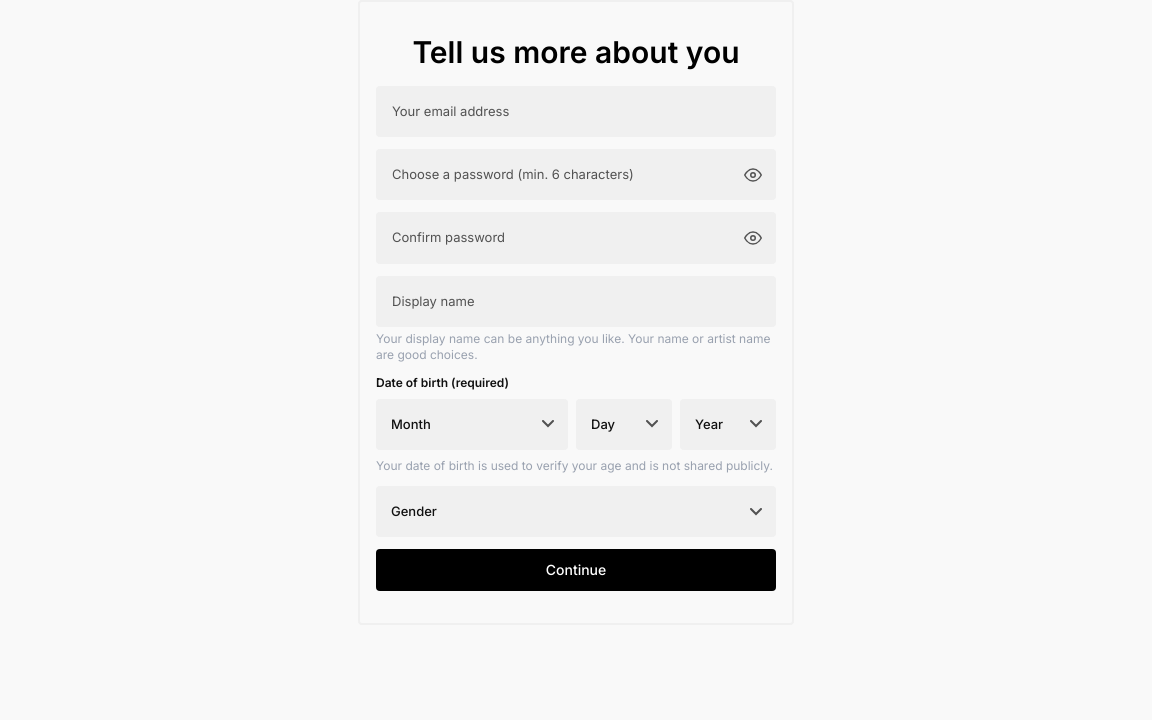
Test case: RegisterationForm › shows email confirmation overlay after successful submit
Type "user@example.com" into the field named "email" at point(576, 112), box [376,86,776,137]
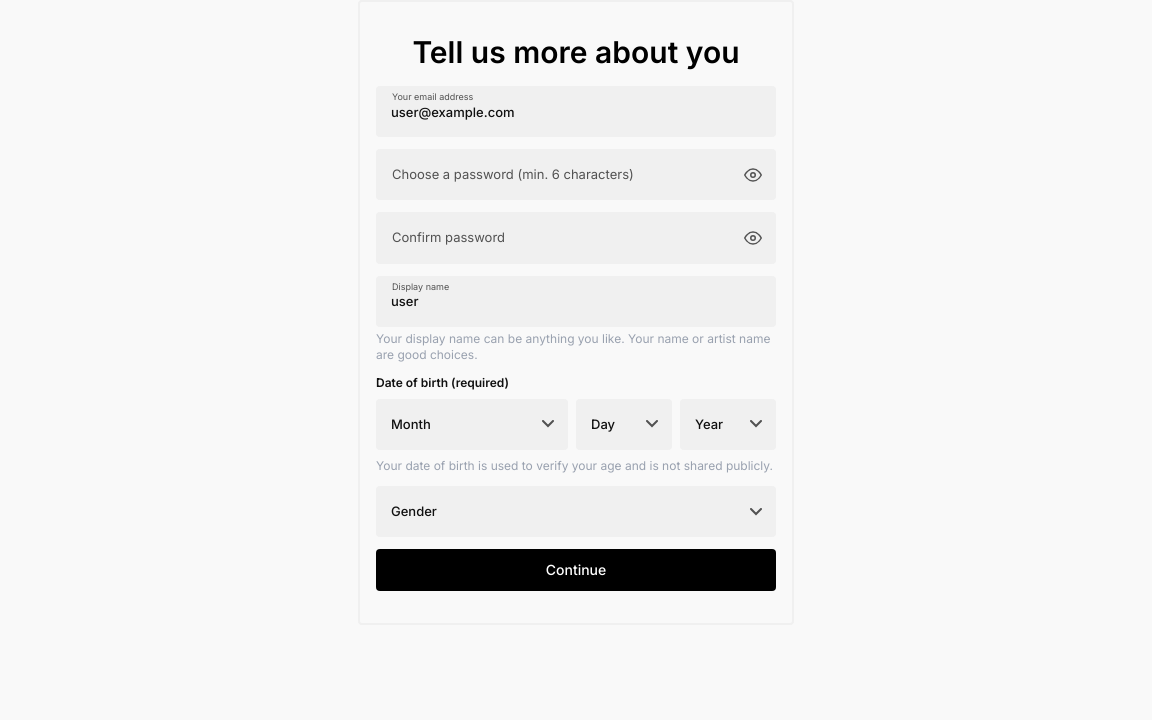
Result: the field named "displayName" holds "user" at [376,276,776,327]
Type "Password1" into the password field labelled "Choose a password (min. 6 characters)" at point(576, 175), box [376,149,776,200]
Type "Password1" into the password field labelled "Confirm password" at point(576, 238), box [376,212,776,264]
Select "January" in the 1st dropdown named "month" at point(472, 424), box [376,399,568,450]
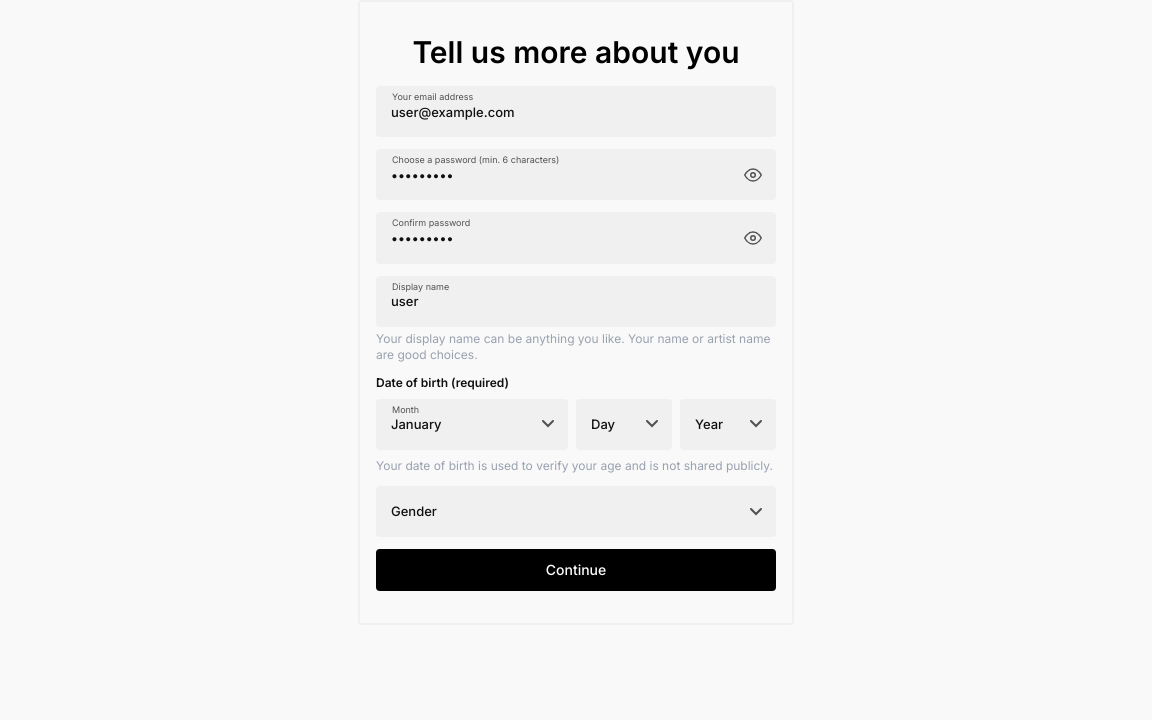
Select "1" in the 1st dropdown named "day" at point(624, 424), box [576,399,672,450]
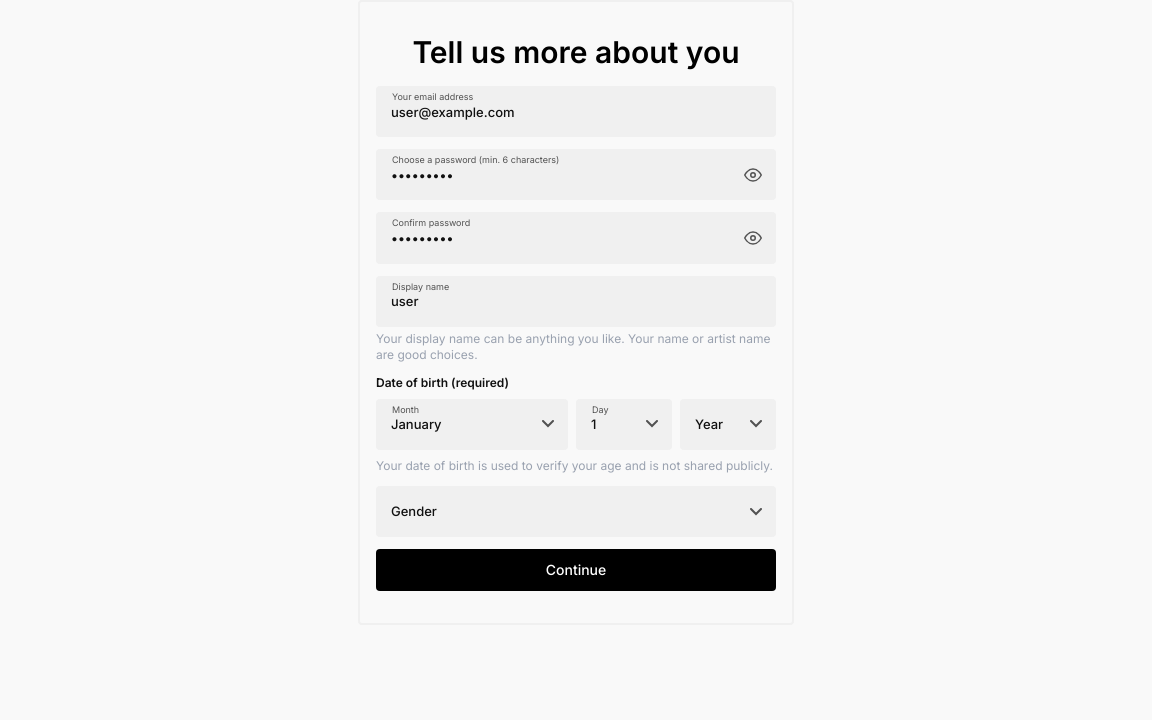
Select "2000" in the dropdown named "year" next to "Day" at point(728, 424), box [680,399,776,450]
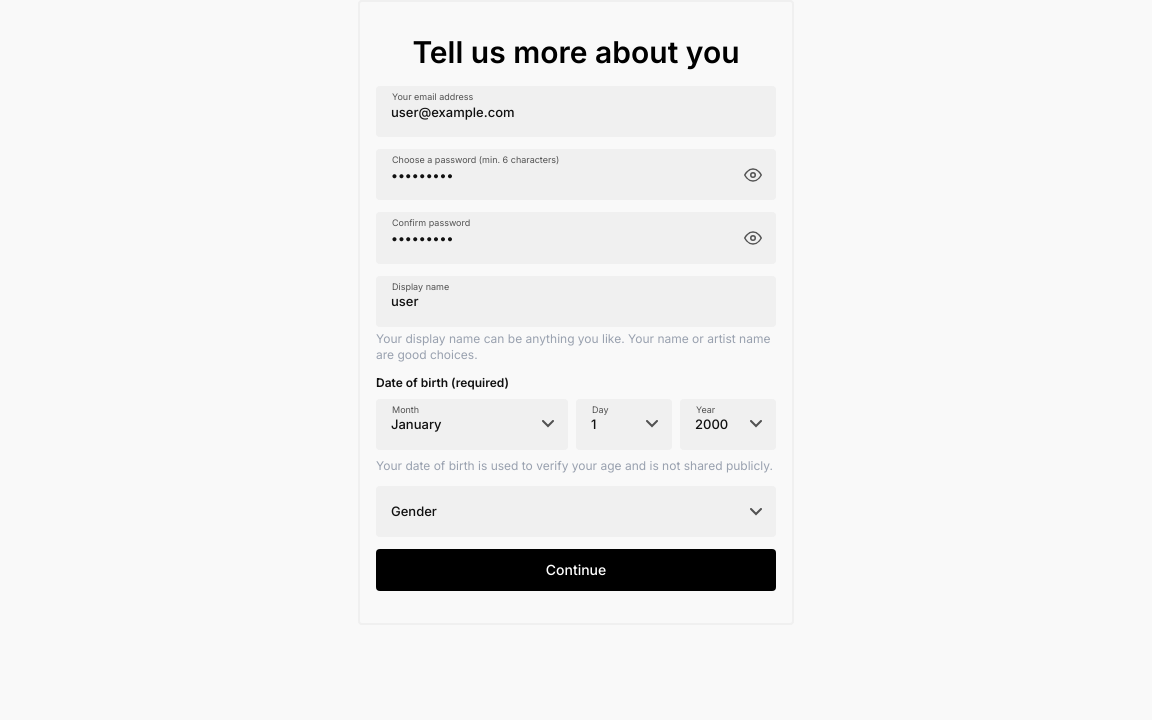
Select "Female" in the dropdown named "gender" at point(576, 512), box [376,486,776,537]
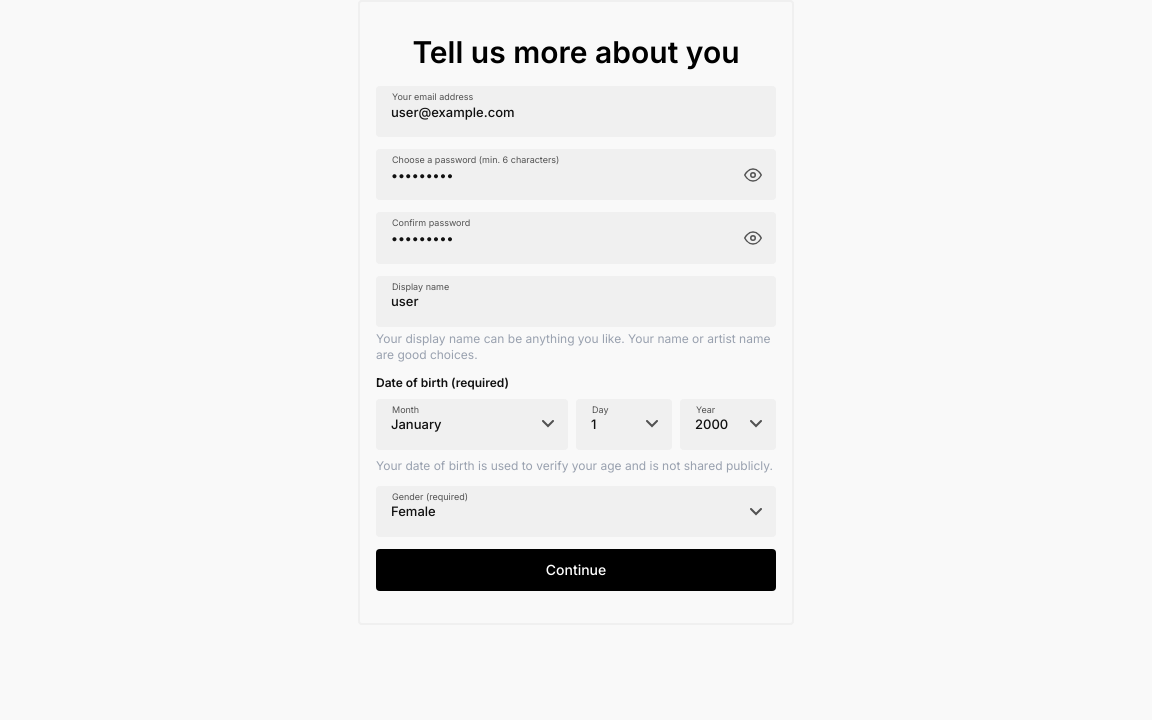
Click the button "Continue" at point(576, 570), box [376,549,776,591]
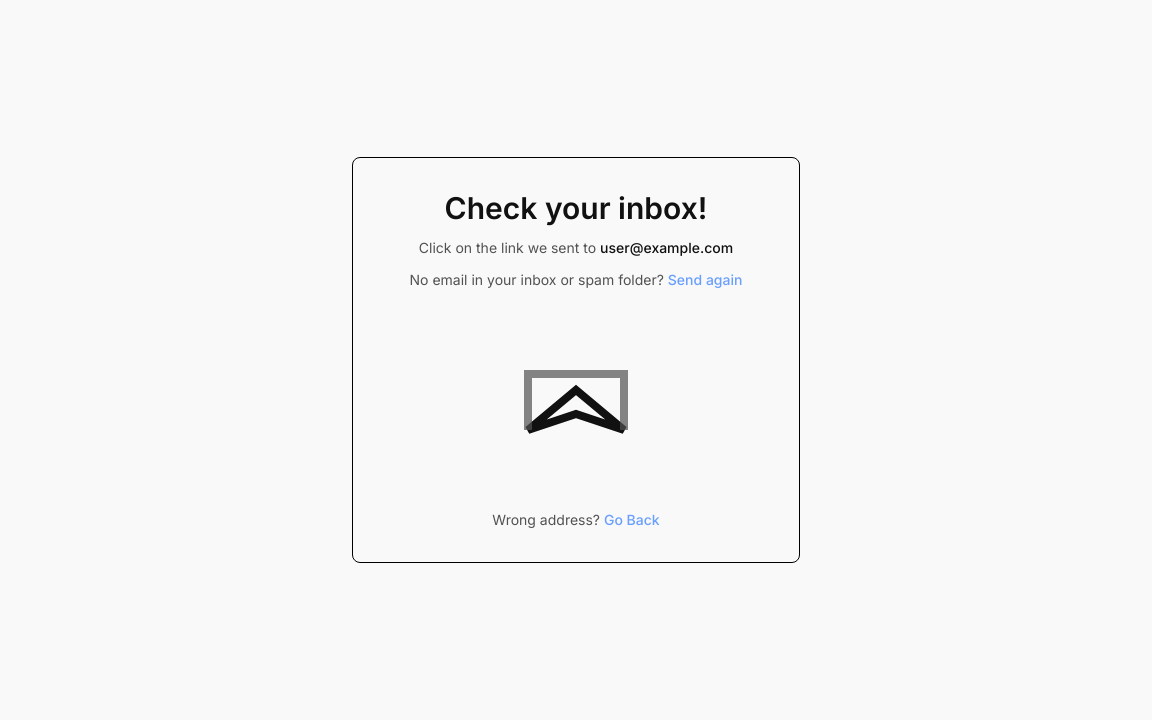
Result: the heading "Check your inbox!" is shown at [445,190,707,226]
Result: the text "user@example.com" is shown at [600,239,733,256]
